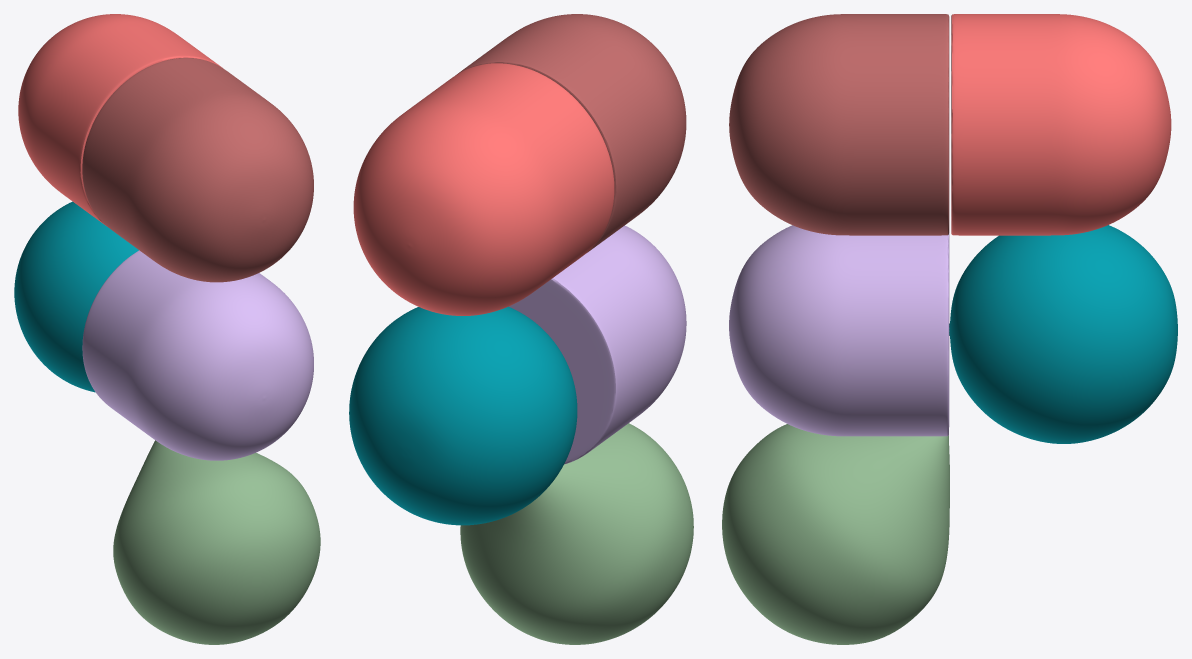
Rendered from figma.fbx.
The picture shows the model from 3 angles, left to right: view 1: azimuth 30°, elevation 25°; view 2: azimuth 150°, elevation 25°; view 3: azimuth 270°, elevation 25°; orthographic projection. The views are drawn at different scales.
Parts seen in each view (by area): view 1: Cylinder.006; view 2: Cylinder.006; view 3: Cylinder.006.
Boxes of the visible parts, <box> form: Cylinder.006: <box>14,14,320,644</box>; Cylinder.006: <box>349,14,693,644</box>; Cylinder.006: <box>722,14,1177,644</box>.
Bounding box in the file's own units: 28.97 × 83.09 × 56.34.
